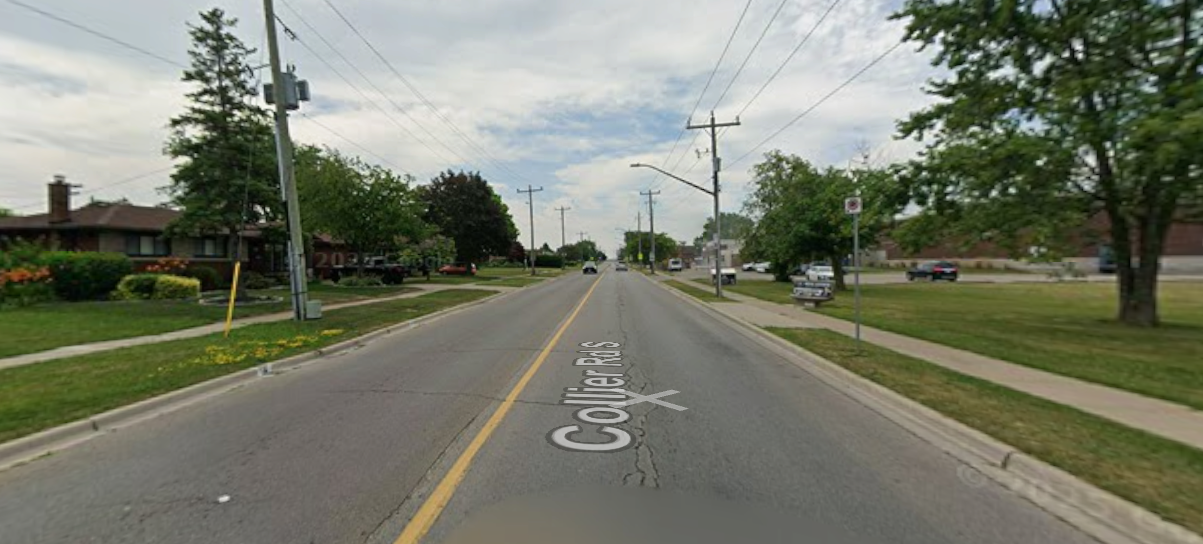cracks: (608, 374, 678, 501), (334, 377, 589, 409), (449, 339, 586, 360)
